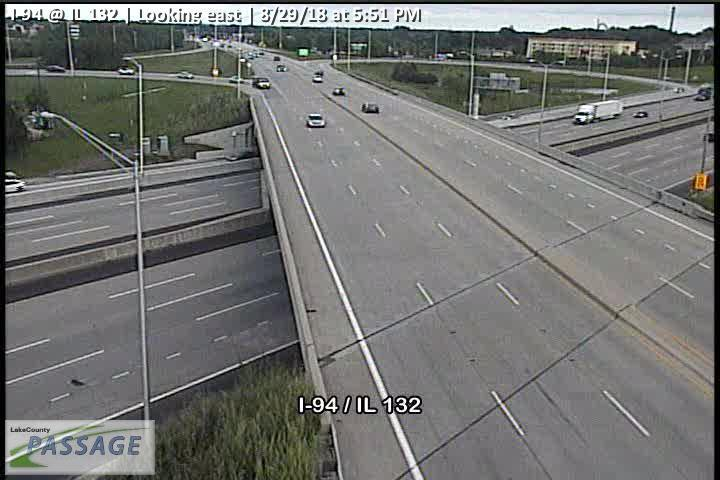Sedan: (306, 113, 326, 127), (255, 77, 270, 89), (363, 103, 379, 114), (117, 67, 134, 75), (176, 71, 192, 79), (332, 87, 346, 95), (631, 111, 648, 117), (275, 64, 287, 72), (228, 76, 243, 82), (312, 74, 322, 82)
Truck: (572, 100, 624, 125)
